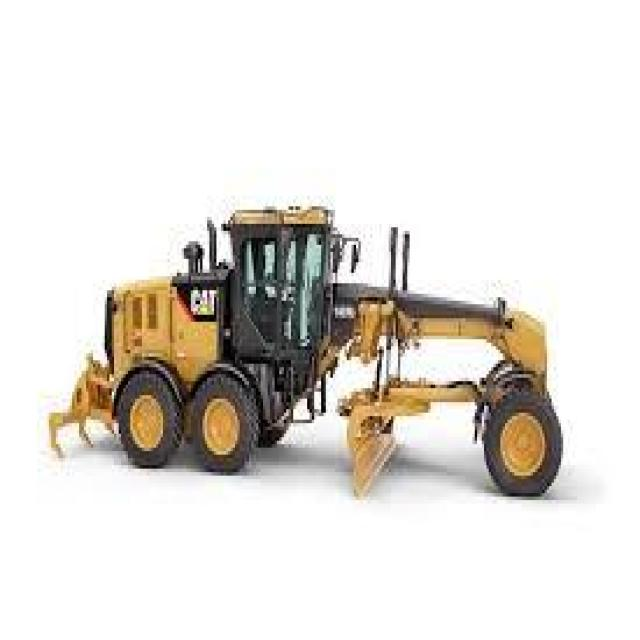buldozerpayloadergrader: (30, 171, 573, 514)
